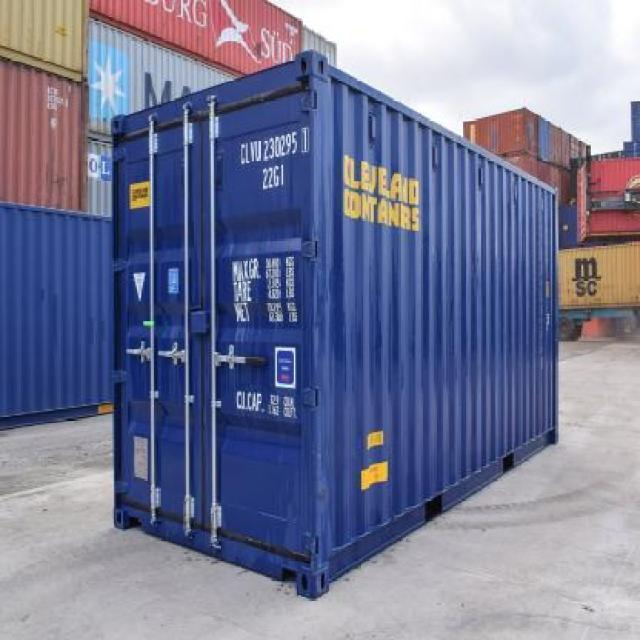ISO: (258, 167, 288, 188)
container_number: (236, 128, 312, 168)
